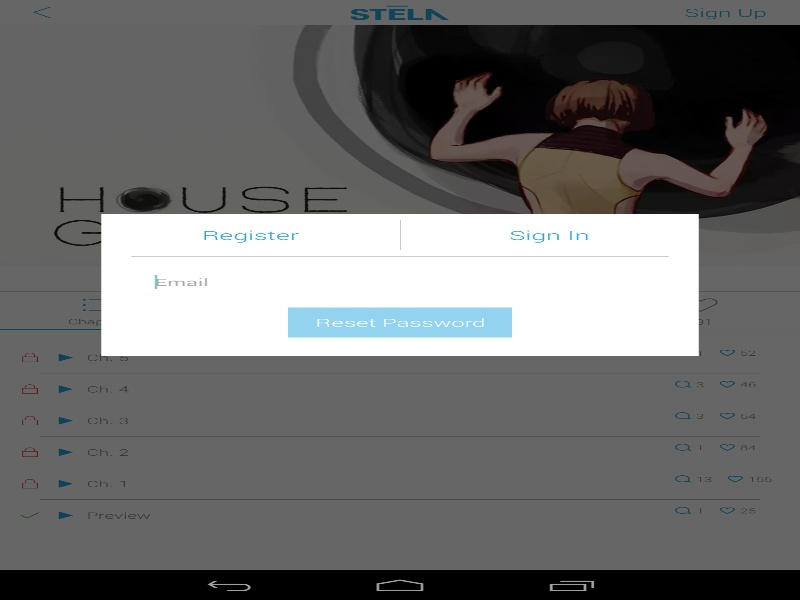Button: (114, 219, 386, 250), (413, 219, 685, 250), (288, 307, 512, 337)
Input: (154, 275, 645, 288)
